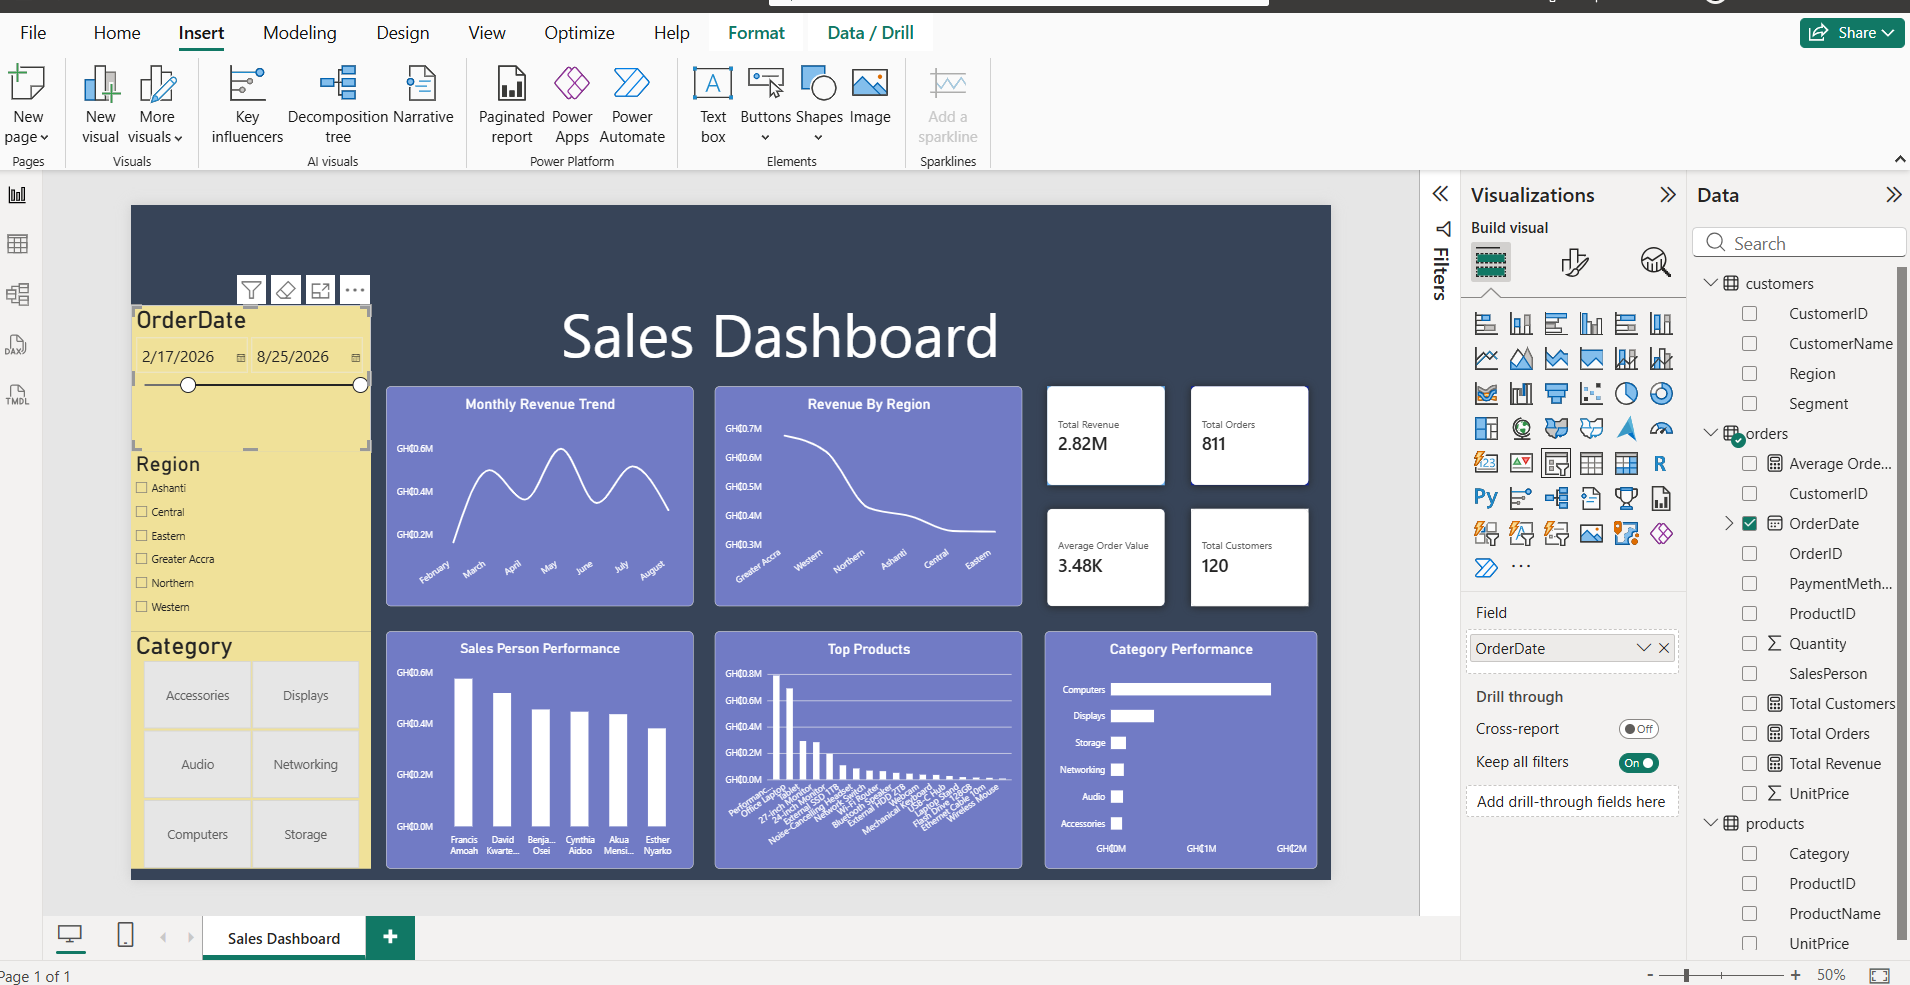

The page's visual inventory and layout, read from the dashboard file:
{"tool":"powerbi","page":{"name":"Sales Dashboard","canvas":[1920,1080],"ordinal":0},"visuals":[{"type":"cardVisual","title":"Total Revenue","fields":{"Data":["orders.Total Revenue"]},"box":[1466,290,188,158],"z":0},{"type":"cardVisual","fields":{"Data":["orders.Total Orders"]},"box":[1696,290,188,158],"z":1000},{"type":"cardVisual","fields":{"Data":["orders.Average Order Value"]},"box":[1466,486,188,156],"z":2000},{"type":"cardVisual","fields":{"Data":["orders.Total Customers"]},"box":[1696,486,188,156],"z":3000},{"type":"slicer","fields":{"Values":["orders.OrderDate"]},"box":[0,160,384,234],"z":4000},{"type":"slicer","fields":{"Values":["products.Category"]},"box":[0,682,384,380],"z":5000},{"type":"lineChart","title":"Monthly Revenue Trend","fields":{"Category":["orders.OrderDate.Variation.Date Hierarchy.Month"],"Y":["orders.Total Revenue"]},"box":[408,290,492,352],"z":6000},{"type":"slicer","fields":{"Values":["customers.Region"]},"box":[0,394,384,288],"z":7000},{"type":"lineChart","title":"Revenue By Region","fields":{"Category":["customers.Region"],"Y":["orders.Total Revenue"]},"box":[934,290,492,352],"z":8000},{"type":"clusteredColumnChart","title":"Top Products","fields":{"Category":["products.ProductName"],"Y":["orders.Total Revenue"]},"box":[934,682,492,380],"z":9000},{"type":"clusteredColumnChart","title":"Sales Person Performance","fields":{"Category":["orders.SalesPerson"],"Y":["orders.Total Revenue"]},"box":[408,682,492,380],"z":10000},{"type":"textbox","box":[656,140,766,138],"z":11000},{"type":"clusteredBarChart","title":"Category Performance","fields":{"Category":["products.Category"],"Y":["orders.Total Revenue"]},"box":[1462,682,436,380],"z":11001}]}

Visuals, with their boxes on the page's 1920x1080 design canvas (x1, y1, x2, y2). These are canvas units, not pixel positions in the 1910x985 screenshot, which may show the page scaled, cropped or inside an application window:
"Total Revenue" cardVisual: (left=1466, top=290, right=1654, bottom=448)
cardVisual - orders.Total Orders: (left=1696, top=290, right=1884, bottom=448)
cardVisual - orders.Average Order Value: (left=1466, top=486, right=1654, bottom=642)
cardVisual - orders.Total Customers: (left=1696, top=486, right=1884, bottom=642)
slicer - orders.OrderDate: (left=0, top=160, right=384, bottom=394)
slicer - products.Category: (left=0, top=682, right=384, bottom=1062)
"Monthly Revenue Trend" lineChart: (left=408, top=290, right=900, bottom=642)
slicer - customers.Region: (left=0, top=394, right=384, bottom=682)
"Revenue By Region" lineChart: (left=934, top=290, right=1426, bottom=642)
"Top Products" clusteredColumnChart: (left=934, top=682, right=1426, bottom=1062)
"Sales Person Performance" clusteredColumnChart: (left=408, top=682, right=900, bottom=1062)
textbox: (left=656, top=140, right=1422, bottom=278)
"Category Performance" clusteredBarChart: (left=1462, top=682, right=1898, bottom=1062)
